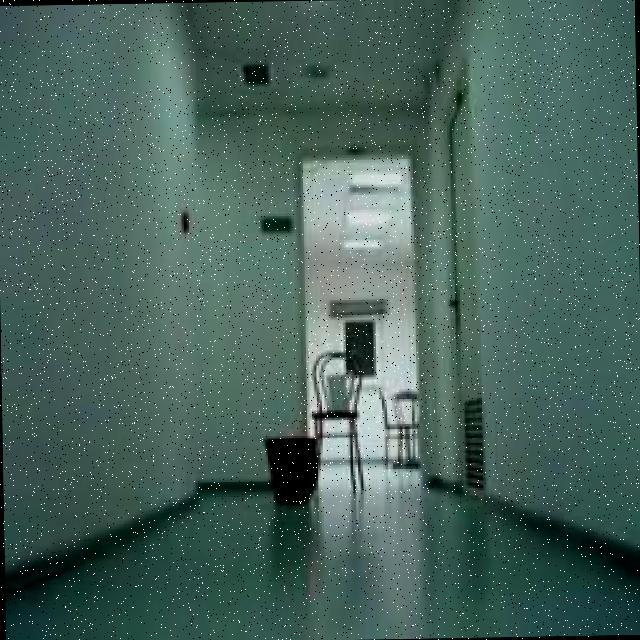Fire: (303, 419, 317, 431)
